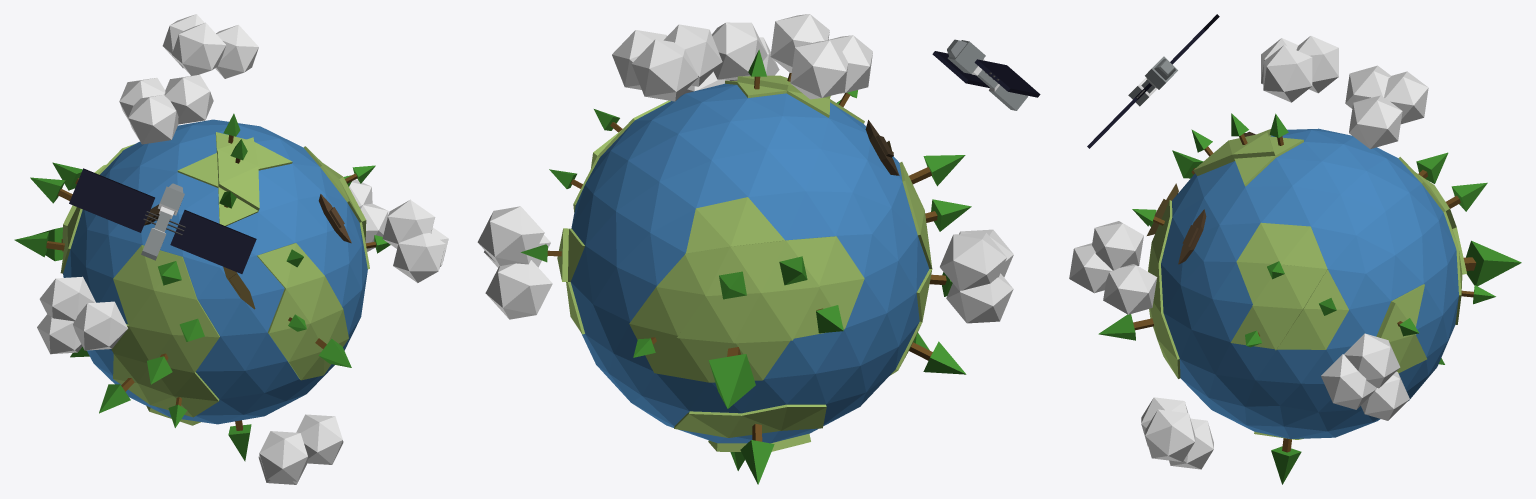
The model's file is World2.glb.
3 views of the same model, side by side, from view 1: azimuth 30°, elevation 25°; view 2: azimuth 150°, elevation 25°; view 3: azimuth 270°, elevation 25° (orthographic). The views are drawn at different scales.
Parts seen in each view (by area): view 1: Plane.024; view 2: Plane.024; view 3: Plane.024.
Part boxes in pixels (box(x1,y1,x2,y2)): Plane.024: box(14, 14, 448, 484); Plane.024: box(477, 14, 1040, 484); Plane.024: box(1069, 14, 1521, 484).
Bounding box in the file's own units: 3 × 2.99 × 2.95.
